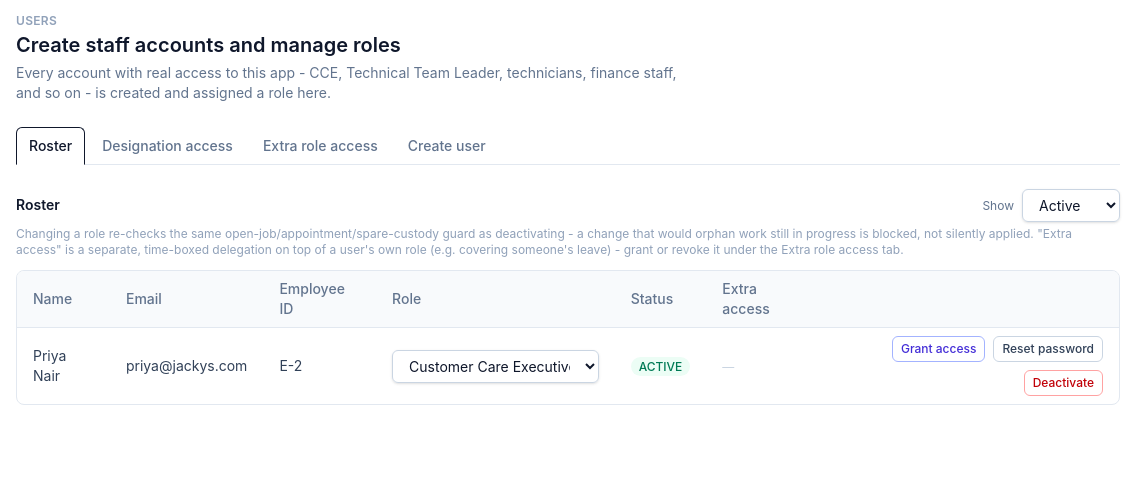
Test: UsersPage - roster › status filter › switching the filter to All shows both active and inactive users
The width and height of the screenshot is (1138, 499).
Expected: the text "Priya Nair" is shown, x1=17 y1=328 x2=110 y2=404
Select "All" in the dropdown named "Filter roster by status" at (1071, 206), box x1=1022 y1=189 x2=1120 y2=222
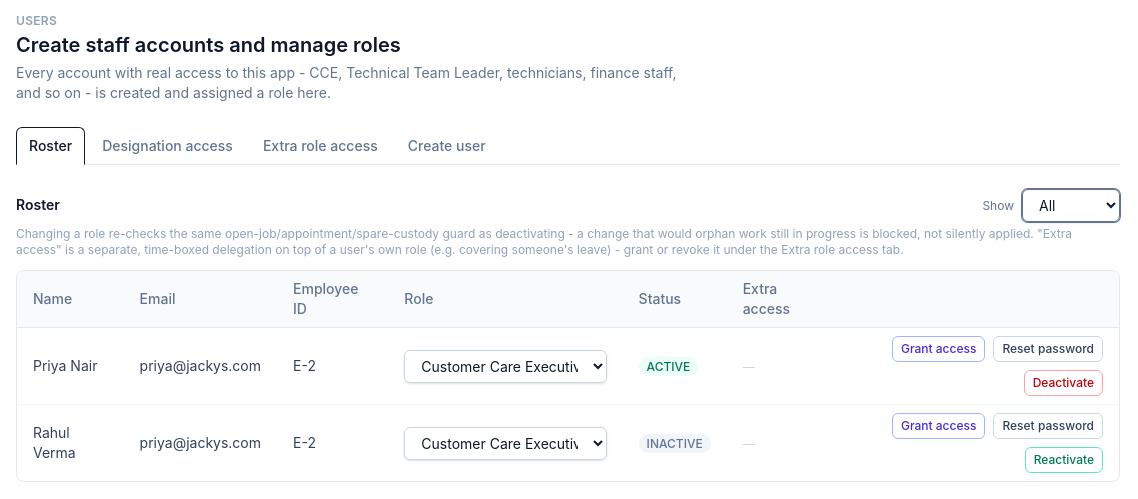
Expected: the text "Priya Nair" is shown, x1=17 y1=328 x2=124 y2=404
Now the text "Rahul Verma" is shown, box x1=17 y1=404 x2=124 y2=481
